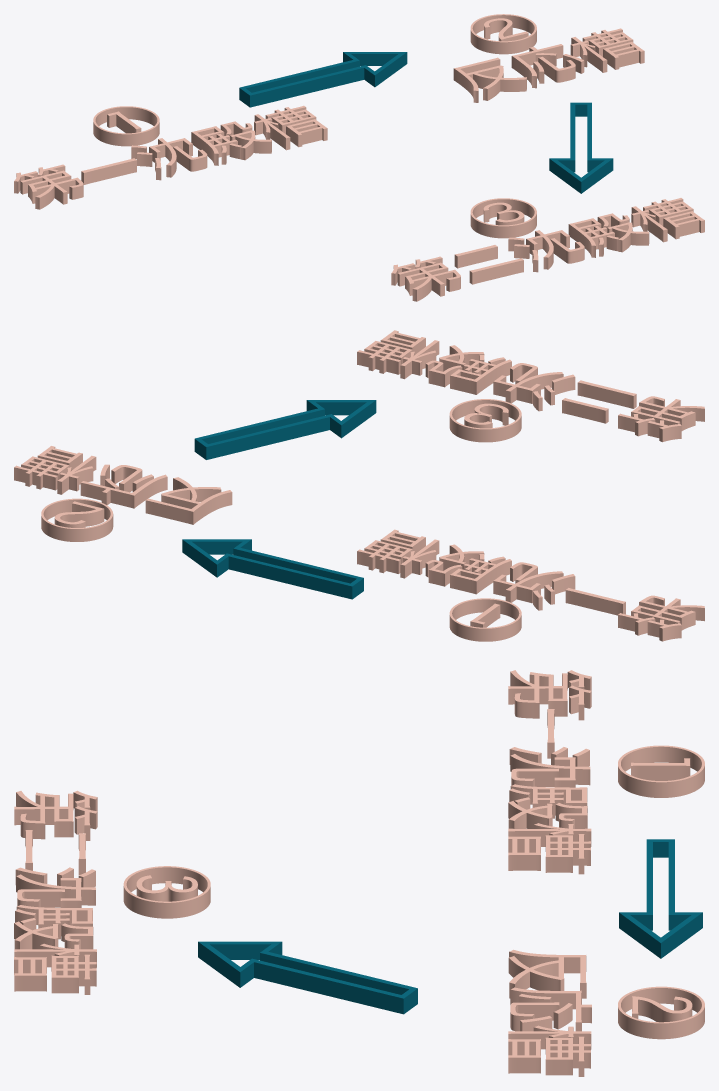
File: textGesui.fbx
3 views of the same model, one above another, from view 1: azimuth 30°, elevation 25°; view 2: azimuth 150°, elevation 25°; view 3: azimuth 270°, elevation 25° (orthographic). The views are drawn at different scales.
Visible parts, largest first — view 1: オブジェクト_2, オブジェクト_1, オブジェクト_5, オブジェクト_14, オブジェクト_35, オブジェクト_16, オブジェクト_3, オブジェクト_33, オブジェクト_25, オブジェクト_45, オブジェクト_6, オブジェクト_31 (+21 smaller); view 2: オブジェクト_2, オブジェクト_1, オブジェクト_5, オブジェクト_14, オブジェクト_33, オブジェクト_3, オブジェクト_16, オブジェクト_35, オブジェクト_6, オブジェクト_25, オブジェクト_45, オブジェクト_30 (+24 smaller); view 3: オブジェクト_1, オブジェクト_2, オブジェクト_14, オブジェクト_33, オブジェクト_3, オブジェクト_5, オブジェクト_16, オブジェクト_35, オブジェクト_50, オブジェクト_11, オブジェクト_30, オブジェクト_20 (+20 smaller).
Part boxes in pixels (x1=…): オブジェクト_2: x1=239, y1=52, x2=407, y2=107; オブジェクト_1: x1=549, y1=102, x2=613, y2=193; オブジェクト_5: x1=453, y1=57, x2=526, y2=102; オブジェクト_14: x1=93, y1=106, x2=159, y2=146; オブジェクト_35: x1=397, y1=262, x2=460, y2=301; オブジェクト_16: x1=20, y1=170, x2=83, y2=209; オブジェクト_3: x1=470, y1=14, x2=536, y2=54; オブジェクト_33: x1=470, y1=198, x2=536, y2=238; オブジェクト_25: x1=191, y1=126, x2=237, y2=165; オブジェクト_45: x1=568, y1=218, x2=614, y2=257; オブジェクト_6: x1=511, y1=44, x2=563, y2=88; オブジェクト_31: x1=286, y1=119, x2=327, y2=147; オブジェクト_2: x1=182, y1=539, x2=363, y2=599; オブジェクト_1: x1=194, y1=400, x2=376, y2=459; オブジェクト_5: x1=145, y1=477, x2=232, y2=524; オブジェクト_14: x1=449, y1=598, x2=521, y2=641; オブジェクト_33: x1=449, y1=399, x2=521, y2=442; オブジェクト_3: x1=41, y1=498, x2=113, y2=541; オブジェクト_16: x1=631, y1=595, x2=704, y2=630; オブジェクト_35: x1=631, y1=396, x2=704, y2=430; オブジェクト_6: x1=80, y1=474, x2=167, y2=508; オブジェクト_25: x1=450, y1=558, x2=511, y2=594; オブジェクト_45: x1=450, y1=359, x2=511, y2=394; オブジェクト_30: x1=357, y1=540, x2=412, y2=573; オブジェクト_1: x1=198, y1=941, x2=417, y2=1014; オブジェクト_2: x1=619, y1=839, x2=702, y2=958; オブジェクト_14: x1=618, y1=745, x2=704, y2=797; オブジェクト_33: x1=123, y1=866, x2=210, y2=918; オブジェクト_3: x1=618, y1=986, x2=704, y2=1039; オブジェクト_5: x1=508, y1=949, x2=586, y2=998; オブジェクト_16: x1=508, y1=670, x2=567, y2=718; オブジェクト_35: x1=14, y1=791, x2=73, y2=839; オブジェクト_50: x1=51, y1=954, x2=96, y2=994; オブジェクト_11: x1=545, y1=1036, x2=590, y2=1076; オブジェクト_30: x1=545, y1=834, x2=590, y2=874; オブジェクト_20: x1=510, y1=754, x2=590, y2=787.
Size of the model in its own units: 26587 by 19850 by 500.
